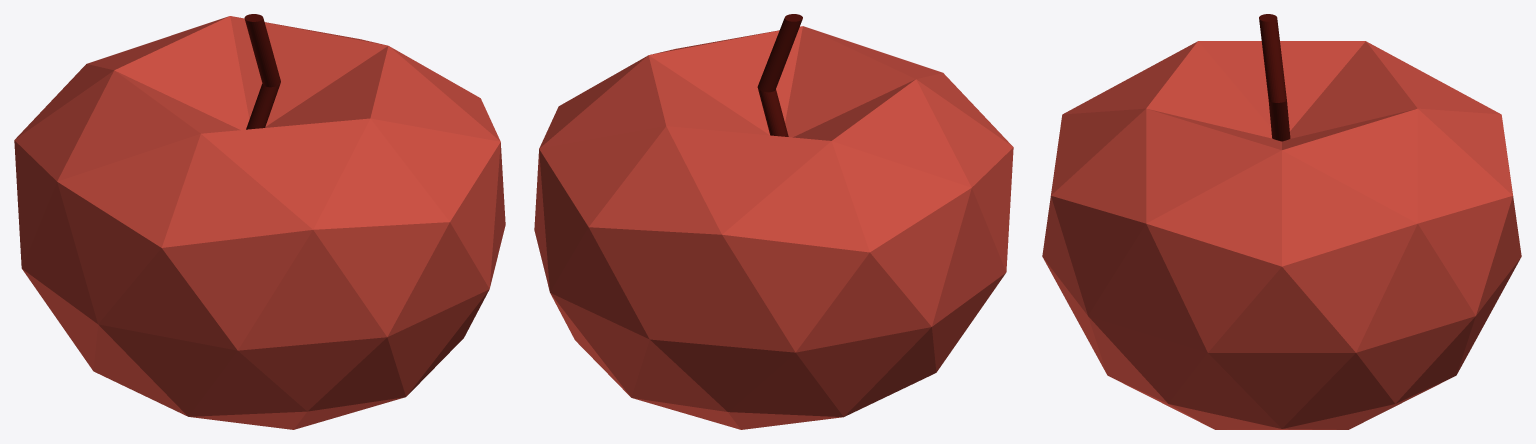
The model's file is Apple.fbx.
3 renders of one model, left to right at view 1: azimuth 30°, elevation 25°; view 2: azimuth 150°, elevation 25°; view 3: azimuth 270°, elevation 25°, orthographic. The views are drawn at different scales.
Parts seen in each view (by area): view 1: Apple; view 2: Apple; view 3: Apple.
Boxes of the visible parts, left/top/right/bottom form: Apple: left=14, top=14, right=505, bottom=429; Apple: left=534, top=14, right=1013, bottom=429; Apple: left=1042, top=14, right=1521, bottom=429.
Size of the model in its own units: 220 by 186 by 222.
